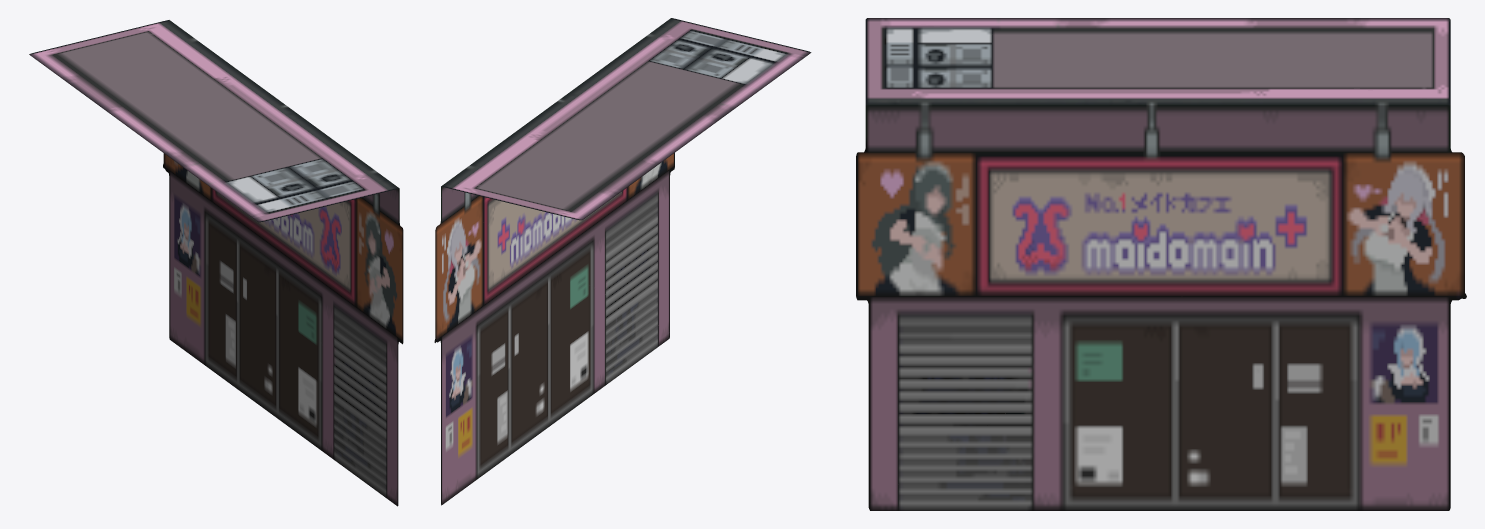
File: MaidCafe1.fbx
The picture shows the model from 3 angles, left to right: view 1: azimuth 30°, elevation 25°; view 2: azimuth 150°, elevation 25°; view 3: azimuth 270°, elevation 25°; orthographic projection. The views are drawn at different scales.
Parts seen in each view (by area): view 1: maidcafe1; view 2: maidcafe1; view 3: maidcafe1.
Part boxes in pixels (box(x1,y1,x2,y2)): maidcafe1: box(29, 20, 403, 506); maidcafe1: box(434, 18, 811, 505); maidcafe1: box(856, 18, 1466, 510).
Bounding box in the file's own units: 94.34 × 197 × 270.
1 material, 1 textured.
